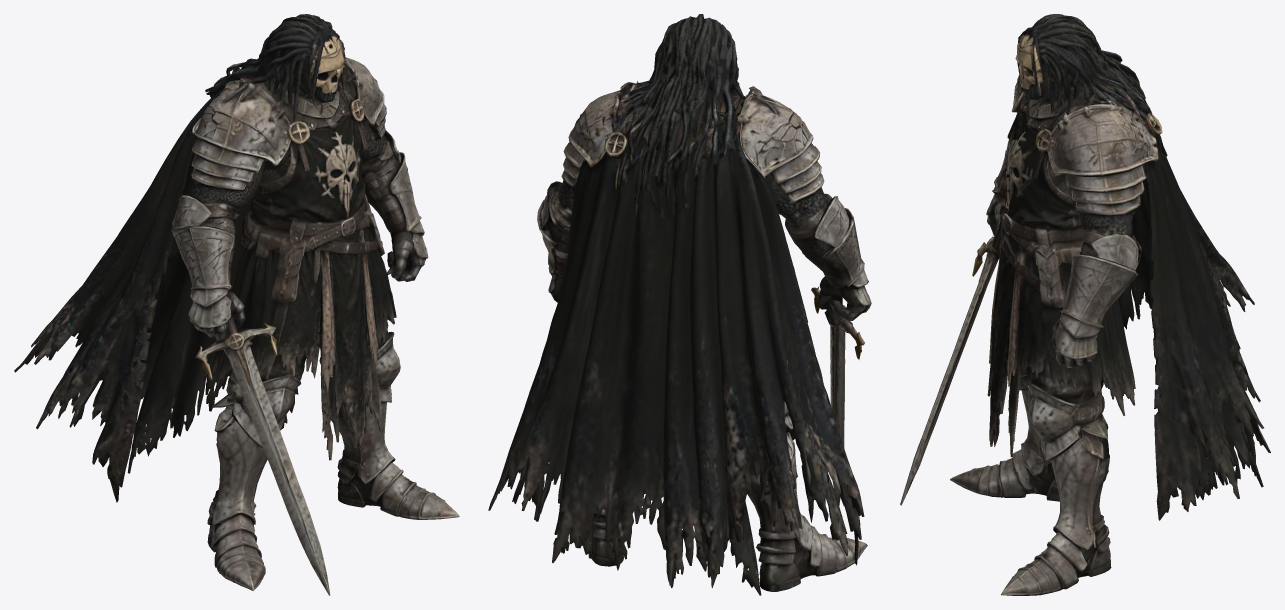
File: dark-knight.glb
3 renders of one model, left to right at view 1: azimuth 30°, elevation 25°; view 2: azimuth 150°, elevation 25°; view 3: azimuth 270°, elevation 25°, orthographic. The views are drawn at different scales.
Parts seen in each view (by area): view 1: tripo_node_e3961dee-b151-4112-a508-5228f08f110d; view 2: tripo_node_e3961dee-b151-4112-a508-5228f08f110d; view 3: tripo_node_e3961dee-b151-4112-a508-5228f08f110d.
Boxes of the visible parts, x1,y1,x2,y2 form: tripo_node_e3961dee-b151-4112-a508-5228f08f110d: (14, 14, 459, 595); tripo_node_e3961dee-b151-4112-a508-5228f08f110d: (488, 14, 871, 595); tripo_node_e3961dee-b151-4112-a508-5228f08f110d: (900, 14, 1270, 595).
Bounding box in the file's own units: 0.6678 × 0.9794 × 0.6347.
1 material, 1 textured.
